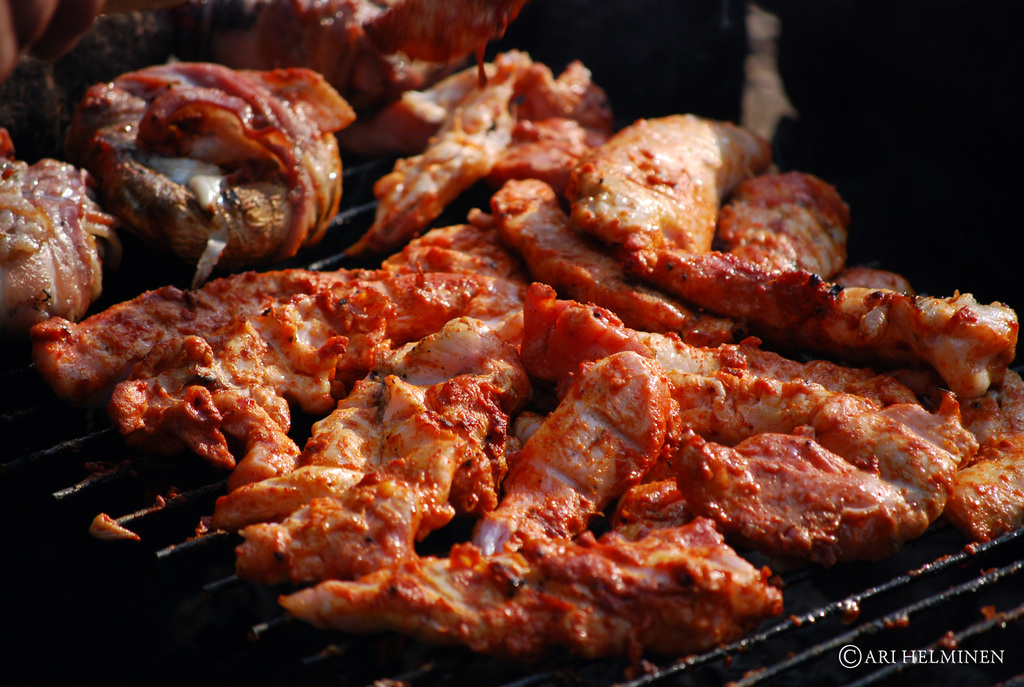person: (0, 0, 112, 137)
